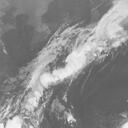cyclone: (24, 22, 104, 102), (119, 118, 127, 126)
